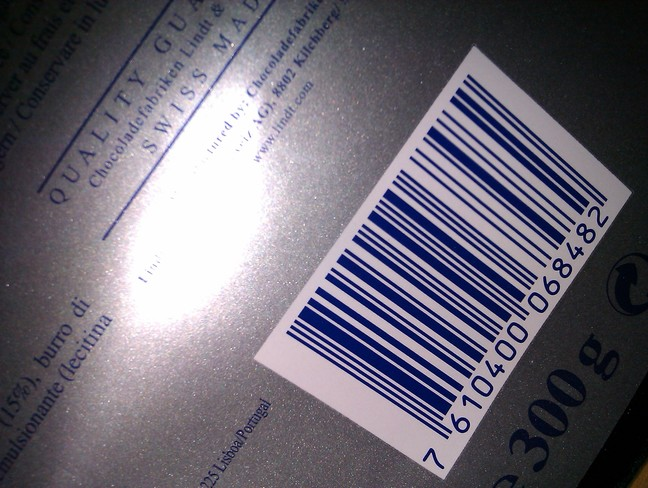barcode: (299, 67, 620, 475)
